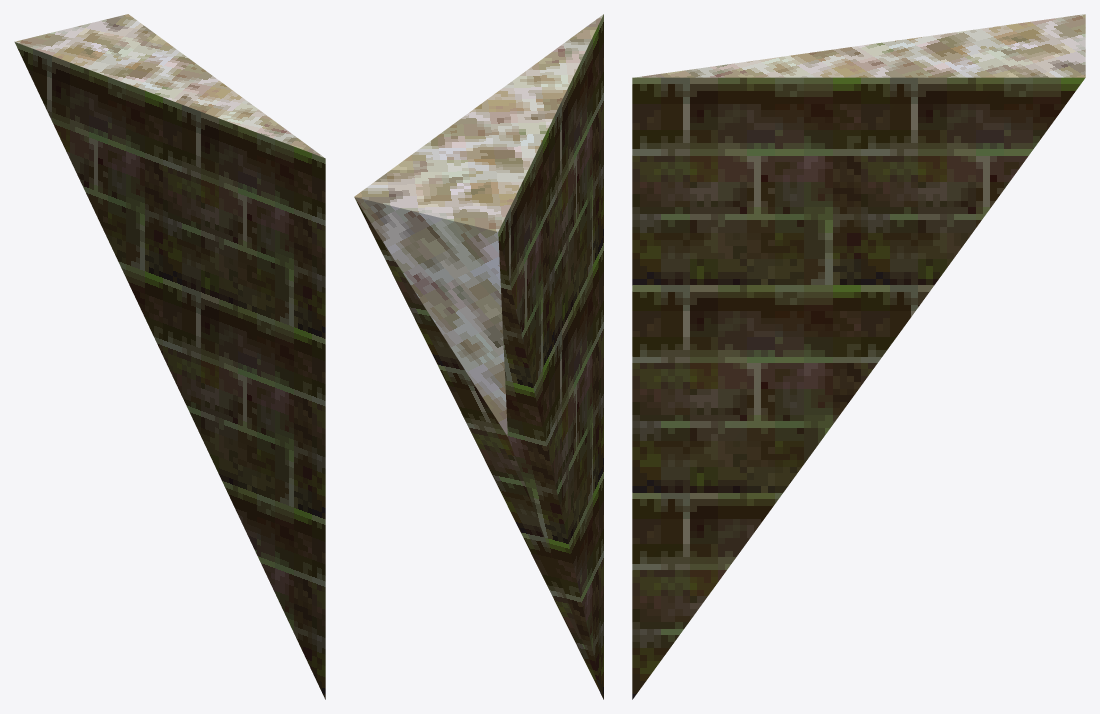
Rendered from bk_kabe01.glb.
The picture shows the model from 3 angles, left to right: view 1: azimuth 30°, elevation 25°; view 2: azimuth 150°, elevation 25°; view 3: azimuth 270°, elevation 25°; orthographic projection. The views are drawn at different scales.
Visible parts, largest first — view 1: bk_kabe01; view 2: bk_kabe01; view 3: bk_kabe01.
Part boxes in pixels (box(x1,y1,x2,y2)): bk_kabe01: box(14, 14, 325, 699); bk_kabe01: box(354, 14, 603, 699); bk_kabe01: box(632, 14, 1085, 699).
Size of the model in its own units: 20.62 by 93.75 by 61.88.
2 materials, 2 textured.
